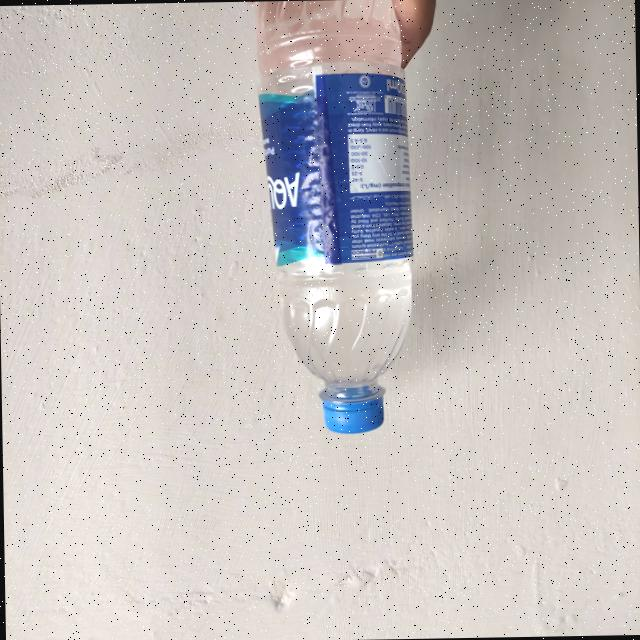bottle: (250, 0, 423, 470)
cap: (311, 385, 388, 439)
label: (248, 75, 418, 281)
